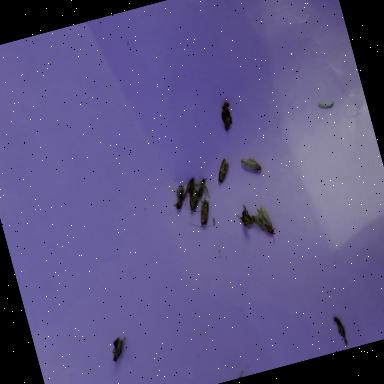pbw: (249, 202, 280, 249), (182, 192, 216, 232), (180, 185, 204, 216), (178, 176, 206, 202), (108, 336, 132, 364), (212, 156, 235, 184), (168, 185, 190, 211), (191, 178, 213, 202), (240, 154, 263, 176)
